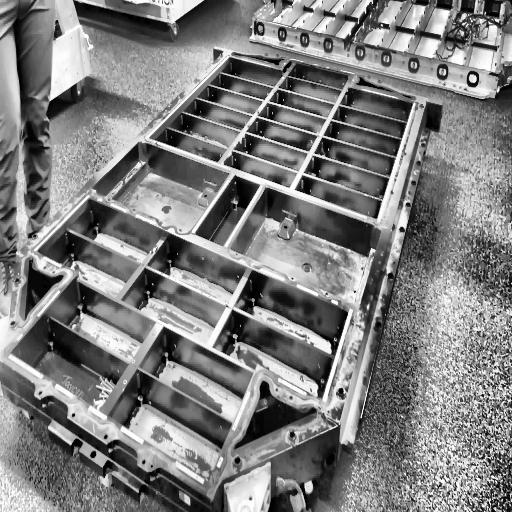b_casing: (0, 44, 443, 501)
